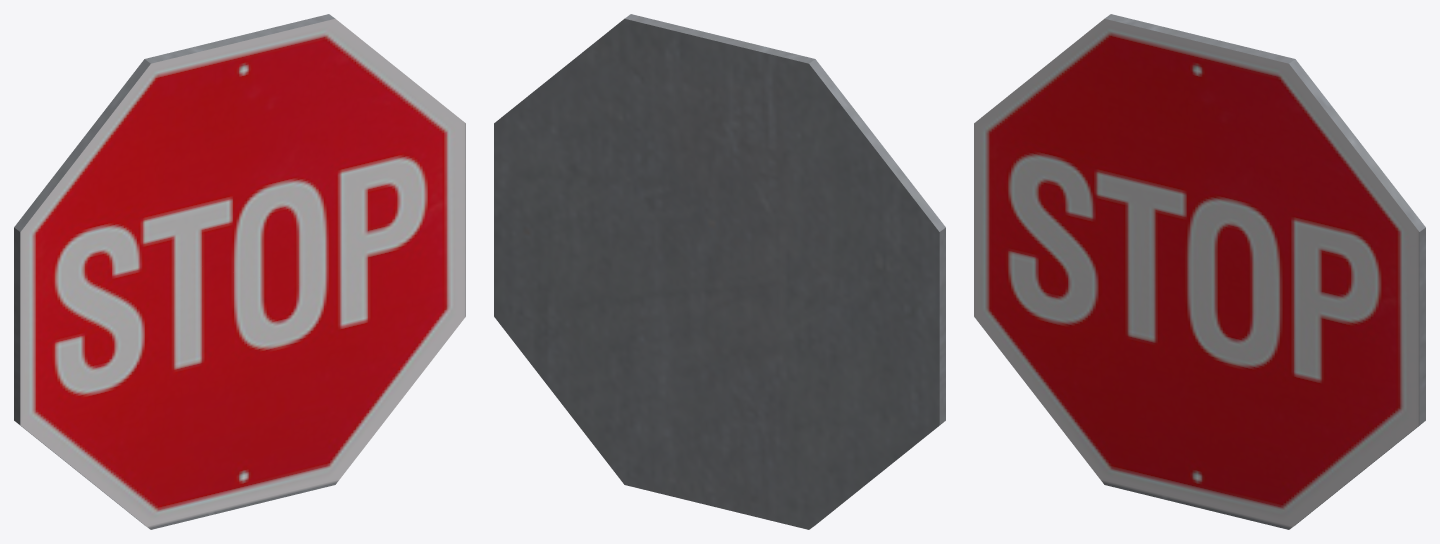
File: SignTrafficStop.fbx
3 renders of one model, left to right at view 1: azimuth 30°, elevation 25°; view 2: azimuth 150°, elevation 25°; view 3: azimuth 330°, elevation 25°, orthographic.
Parts seen in each view (by area): view 1: SignTrafficStopModel; view 2: SignTrafficStopModel; view 3: SignTrafficStopModel.
Boxes of the visible parts, box(x1,y1,x2,y2) form: SignTrafficStopModel: box(14, 14, 465, 529); SignTrafficStopModel: box(494, 14, 945, 529); SignTrafficStopModel: box(974, 14, 1425, 529).
Size of the model in its own units: 0.9498 by 0.9497 by 0.0238.
1 material, 1 textured.
